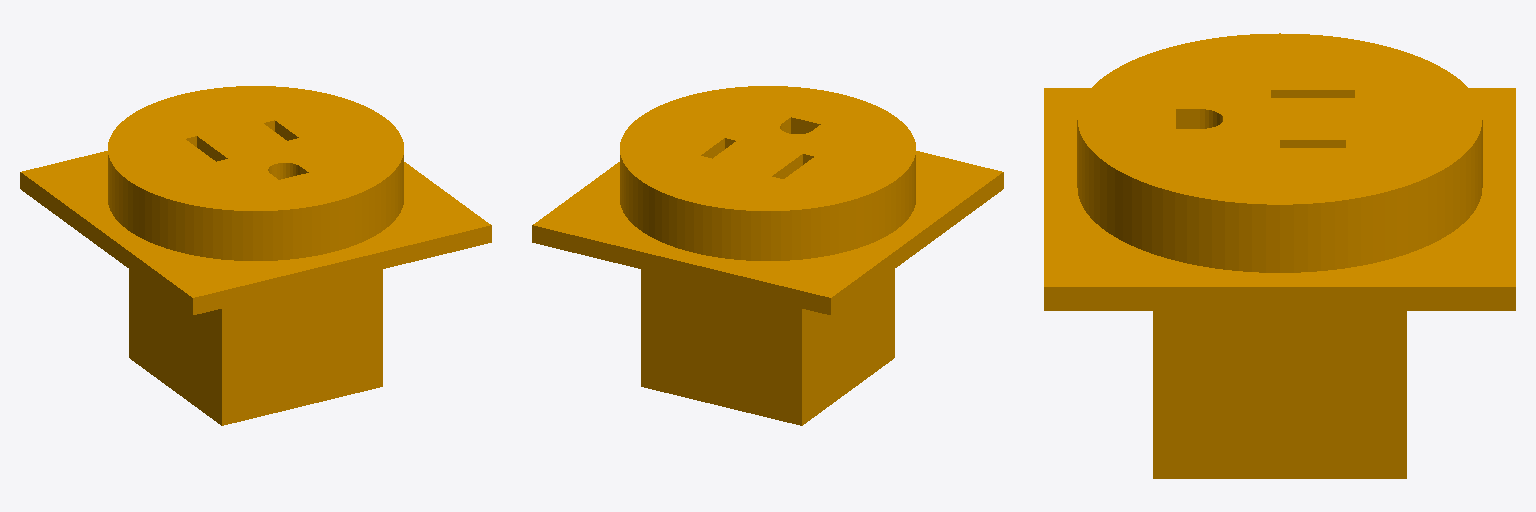
robot.urdf — industreal_cross_hole:
<?xml version="1.0"?>
<robot name="industreal_cross_hole">
    <link name="industreal_cross_hole">
        <visual>
            <geometry>
                <mesh filename="../mesh/industreal_pegs/industreal_3pin_hole.obj"/>
            </geometry>
        </visual>
        <collision>
            <geometry>
                <mesh filename="../mesh/industreal_pegs/industreal_3pin_hole.obj"/>
            </geometry>
            <sdf resolution="256"/>
        </collision>
    </link>
</robot>

--- Facts derived from the render (not from the file) ---
The picture shows the robot from 3 angles, left to right: view 1: azimuth 30°, elevation 25°; view 2: azimuth 150°, elevation 25°; view 3: azimuth 270°, elevation 25°; orthographic projection.
Robot: industreal_cross_hole — 1 links, 0 joints (none); root link industreal_cross_hole; default pose: all joints at 0.
Links seen in each view (by area): view 1: industreal_cross_hole; view 2: industreal_cross_hole; view 3: industreal_cross_hole.
Link boxes in pixels (x1,y1,x2,y2): industreal_cross_hole: (20,86,491,425); industreal_cross_hole: (532,86,1003,425); industreal_cross_hole: (1044,33,1515,478).
Size in the robot's own frame: 0.05 by 0.05 by 0.0358 metres.
1 mesh visuals loaded from 1 distinct referenced files (1 OBJ).
